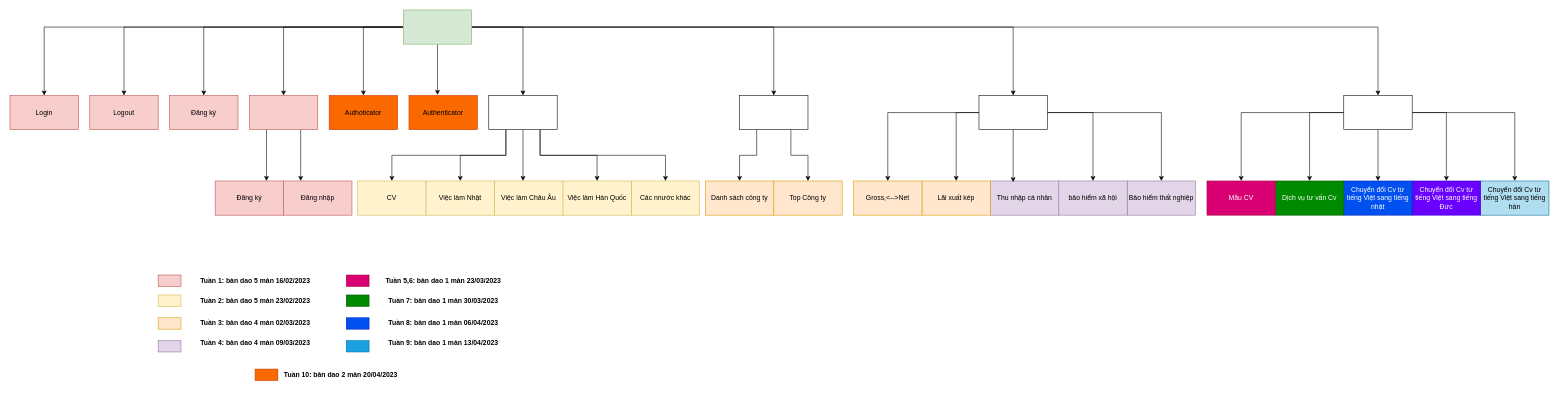
Some shapes in this 1559 by 393 pixel diagram are drawn without their labels. Here are the shapes that lost their labels. From the top down, the box of each, then its label:
(403, 9, 472, 44): CvJapan
(249, 95, 318, 130): Đăng Tuyển
(488, 95, 557, 130): Việc Làm
(739, 95, 808, 130): Công ty
(978, 95, 1047, 130): Tiện Ích
(1343, 95, 1412, 130): Hồ Sơ, Cv
